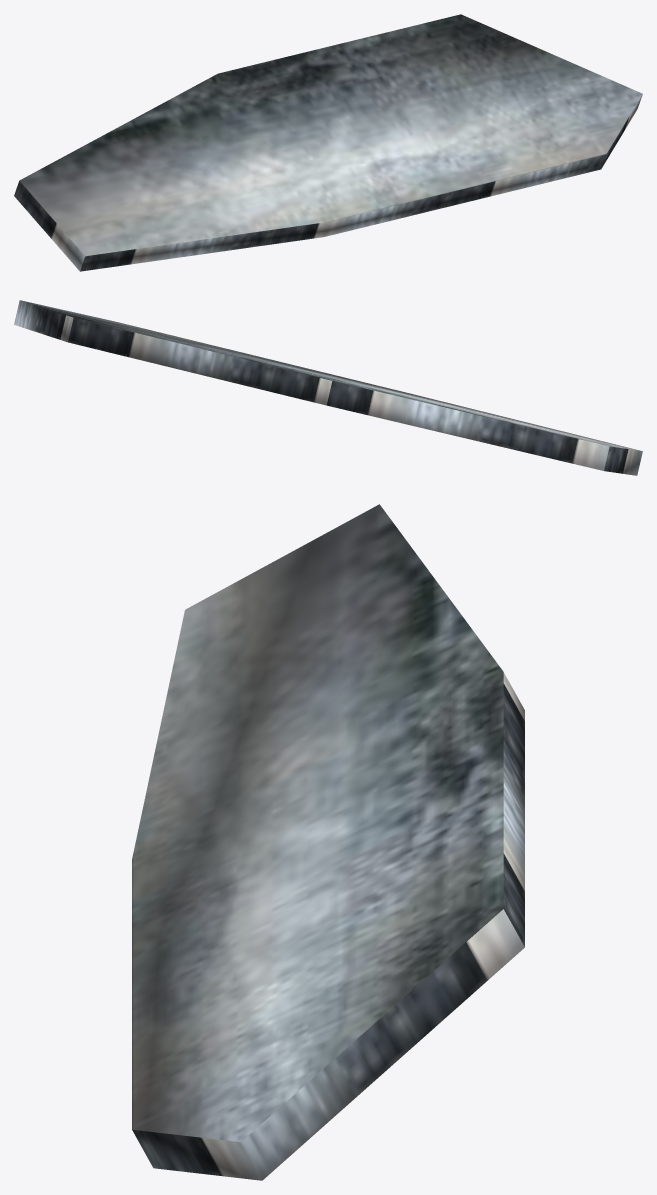
File: cod.dae
3 renders of one model, top to bottom at view 1: azimuth 30°, elevation 25°; view 2: azimuth 150°, elevation 25°; view 3: azimuth 270°, elevation 25°, orthographic. The views are drawn at different scales.
Visible parts, largest first — view 1: group_1; view 2: group_1; view 3: group_1.
Boxes of the visible parts, x1=… form: group_1: x1=14, y1=14, x2=642, y2=271; group_1: x1=14, y1=300, x2=642, y2=475; group_1: x1=132, y1=504, x2=524, y2=1180.
Size of the model in its own units: 10.32 by 2.98 by 1.74.
Materials: 2 (2 with a texture image).
